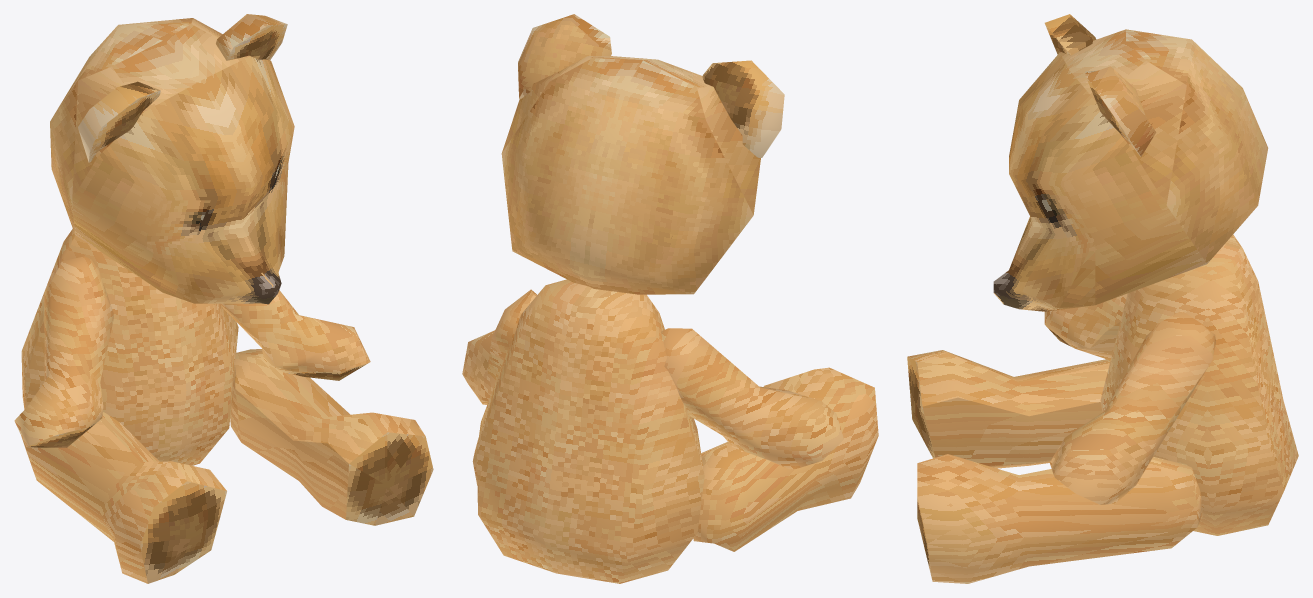
File: kuma24.glb
3 views of the same model, side by side, from view 1: azimuth 30°, elevation 25°; view 2: azimuth 150°, elevation 25°; view 3: azimuth 270°, elevation 25° (orthographic). The views are drawn at different scales.
Parts seen in each view (by area): view 1: kuma24; view 2: kuma24; view 3: kuma24.
Boxes of the visible parts, box(x1,y1,x2,y2) form: kuma24: box(14, 14, 433, 583); kuma24: box(462, 14, 878, 583); kuma24: box(907, 14, 1298, 583).
Bounding box in the file's own units: 81 × 105 × 77.
Materials: 2 (2 with a texture image).
